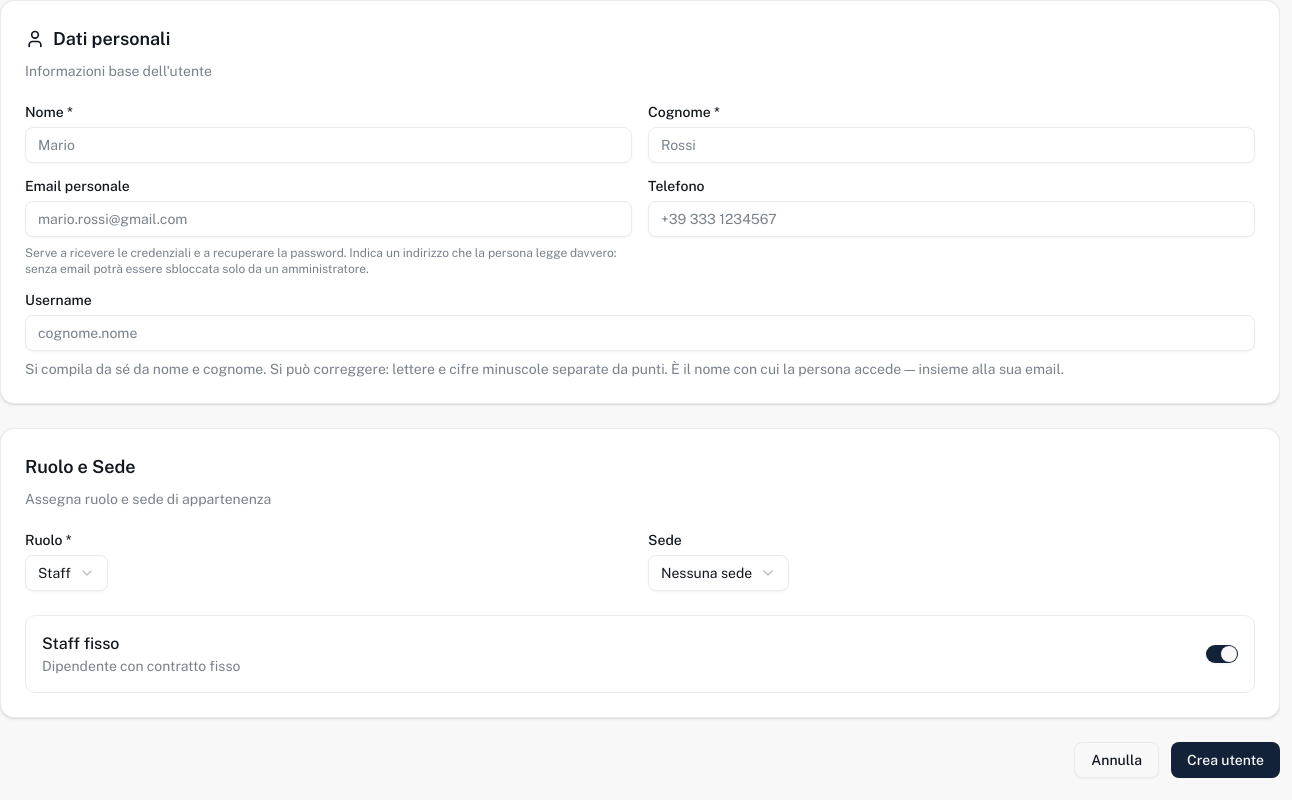
Test case: UserForm - lo username › si compila da sé mentre si scrivono nome e cognome
The image size is (1292, 800).
Type "Ludovica" into the field with id "firstName" at (328, 145), box [25, 127, 632, 163]
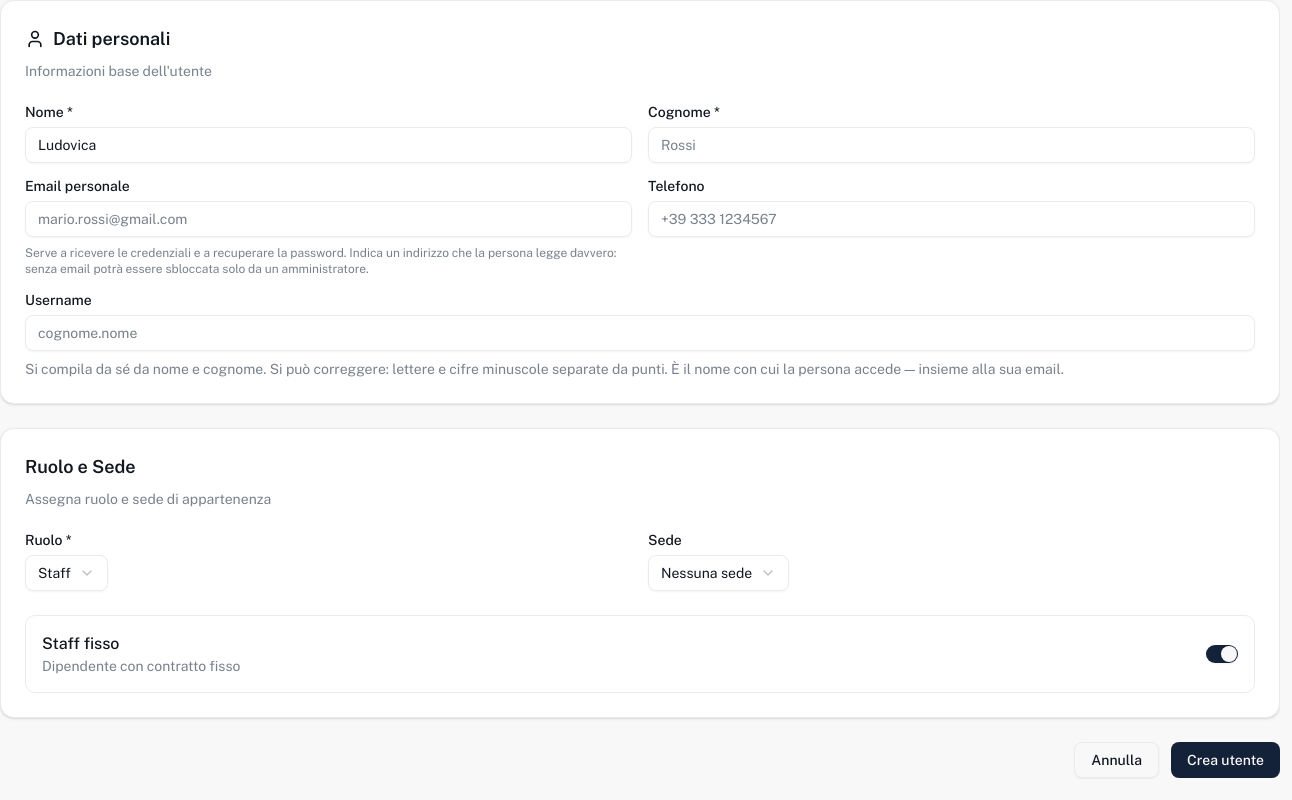
Type "Sartorel" into the field with id "lastName" at (952, 145), box [648, 127, 1255, 163]
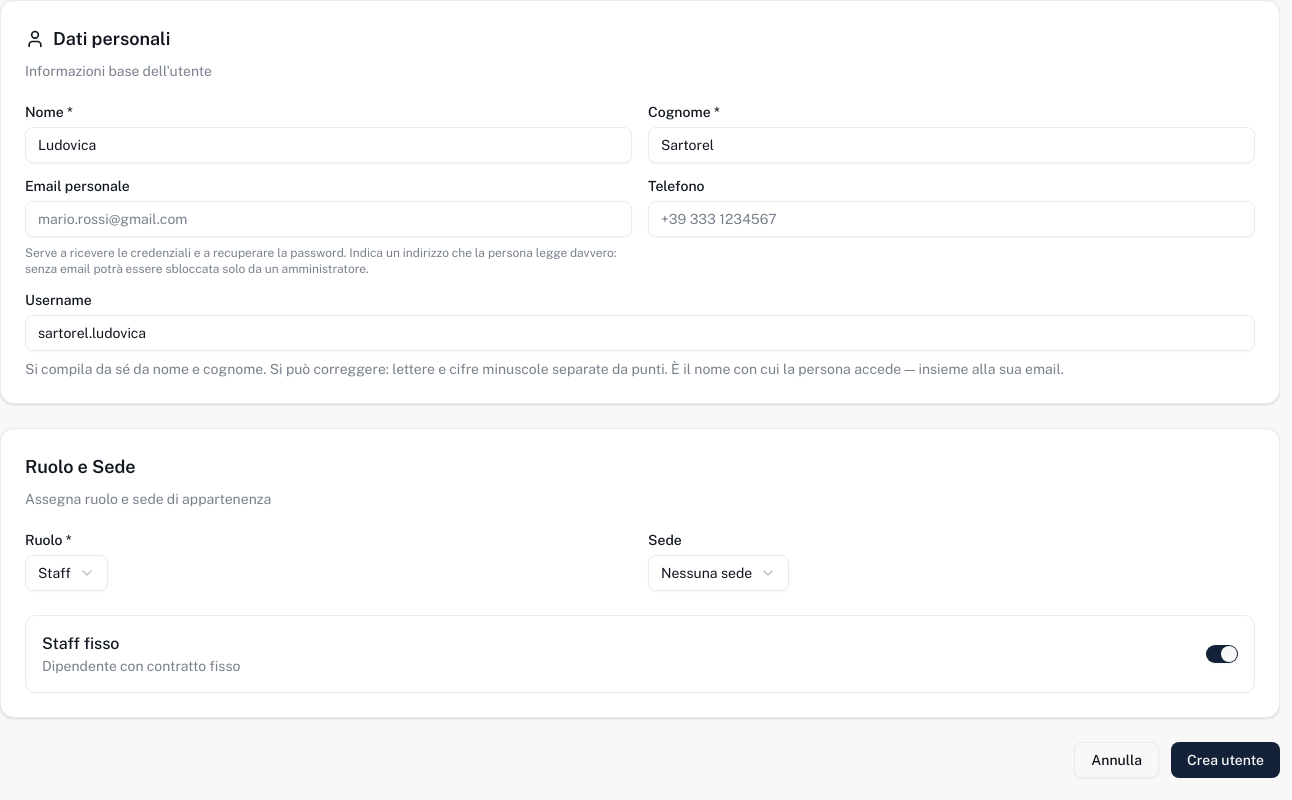
Check: the field with id "username" holds "sartorel.ludovica", box [25, 315, 1255, 351]
